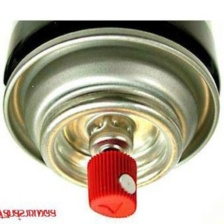aerosol_cans: (1, 0, 222, 222)
